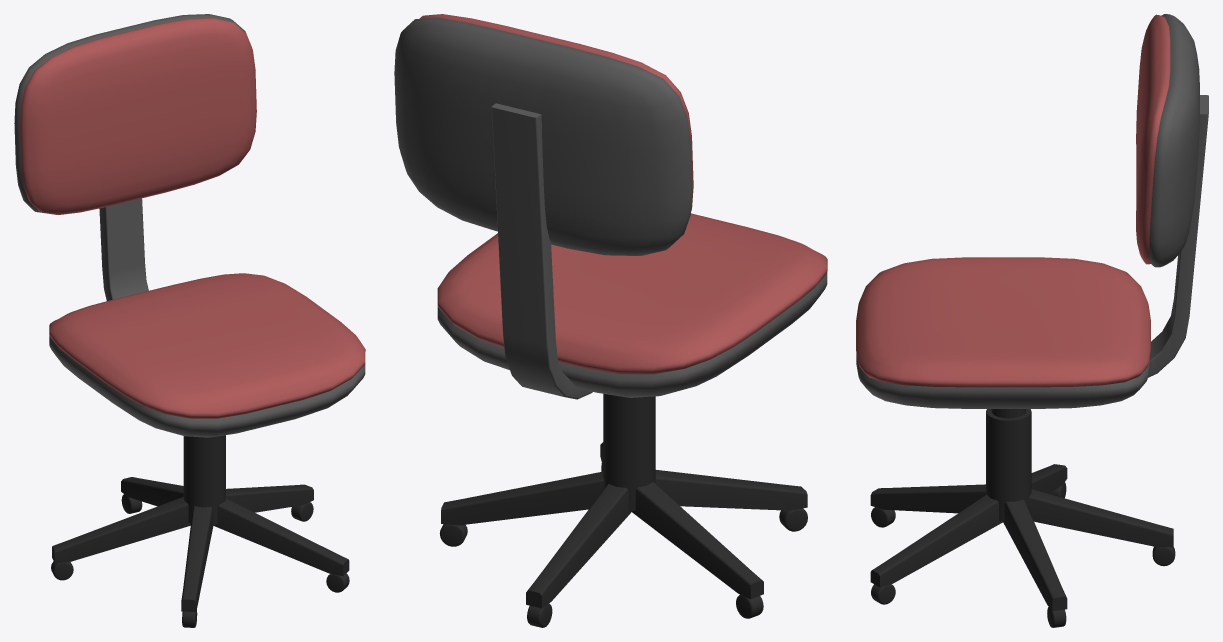
The model's file is chair.fbx.
3 renders of one model, left to right at view 1: azimuth 30°, elevation 25°; view 2: azimuth 150°, elevation 25°; view 3: azimuth 270°, elevation 25°, orthographic. The views are drawn at different scales.
Visible parts, largest first — view 1: pCube11, pCylinder35; view 2: pCube11, pCylinder35; view 3: pCube11, pCylinder35.
Boxes of the visible parts, box(x1,y1,x2,y2) form: pCube11: box(14, 14, 365, 437); pCylinder35: box(51, 435, 349, 627); pCube11: box(394, 14, 827, 399); pCylinder35: box(439, 394, 807, 627); pCube11: box(856, 14, 1208, 408); pCylinder35: box(870, 409, 1175, 627).
Bounding box in the file's own units: 1.55 × 2.73 × 1.71.
